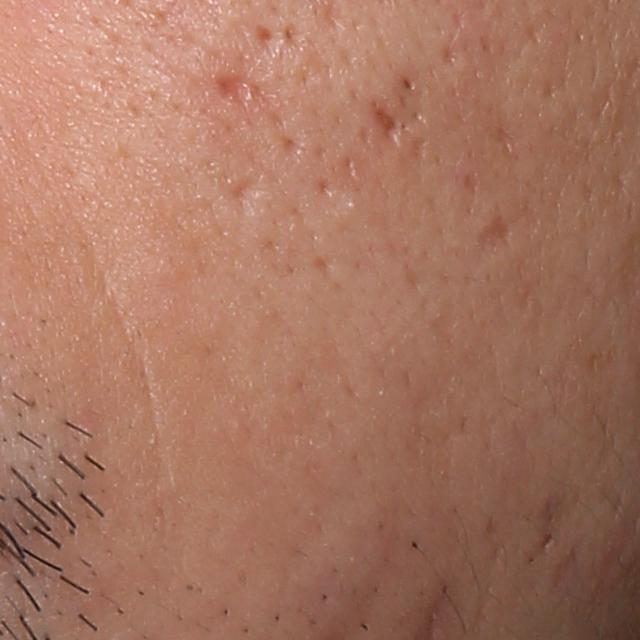atrophic_scar: (474, 205, 519, 255), (363, 97, 409, 145), (208, 71, 260, 113), (222, 169, 260, 215), (437, 33, 466, 78), (276, 126, 313, 161), (312, 252, 343, 282), (252, 22, 278, 47)
